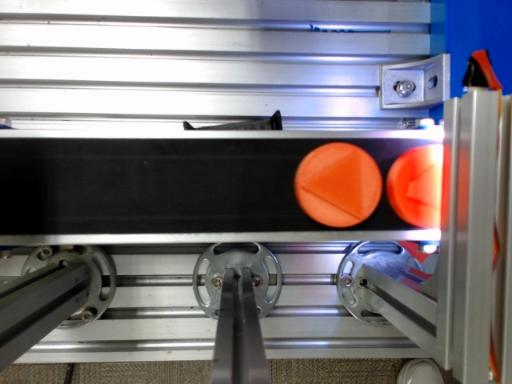Not_Square: (301, 149, 361, 221)
Orange_Waper: (294, 143, 382, 227), (387, 145, 442, 227)
